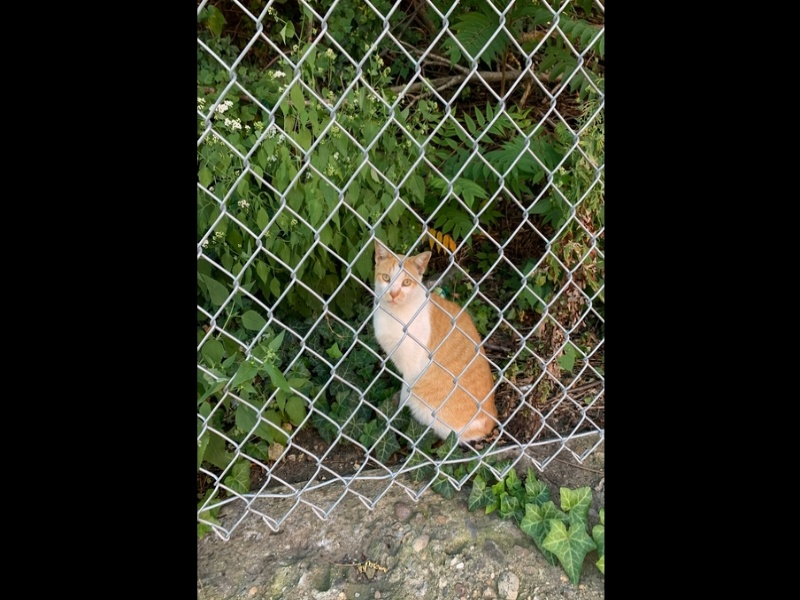cat: (364, 237, 504, 444)
